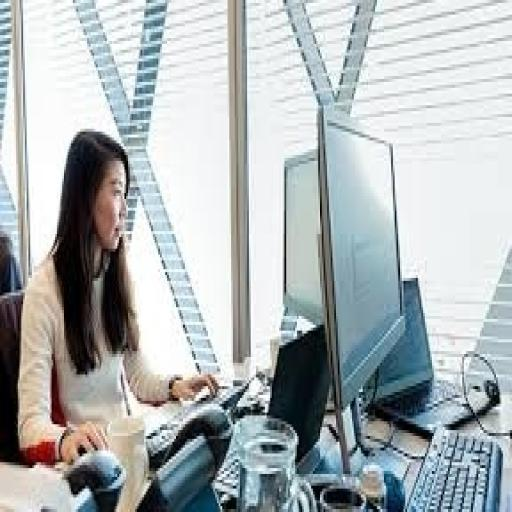sitting: (11, 123, 229, 494)
